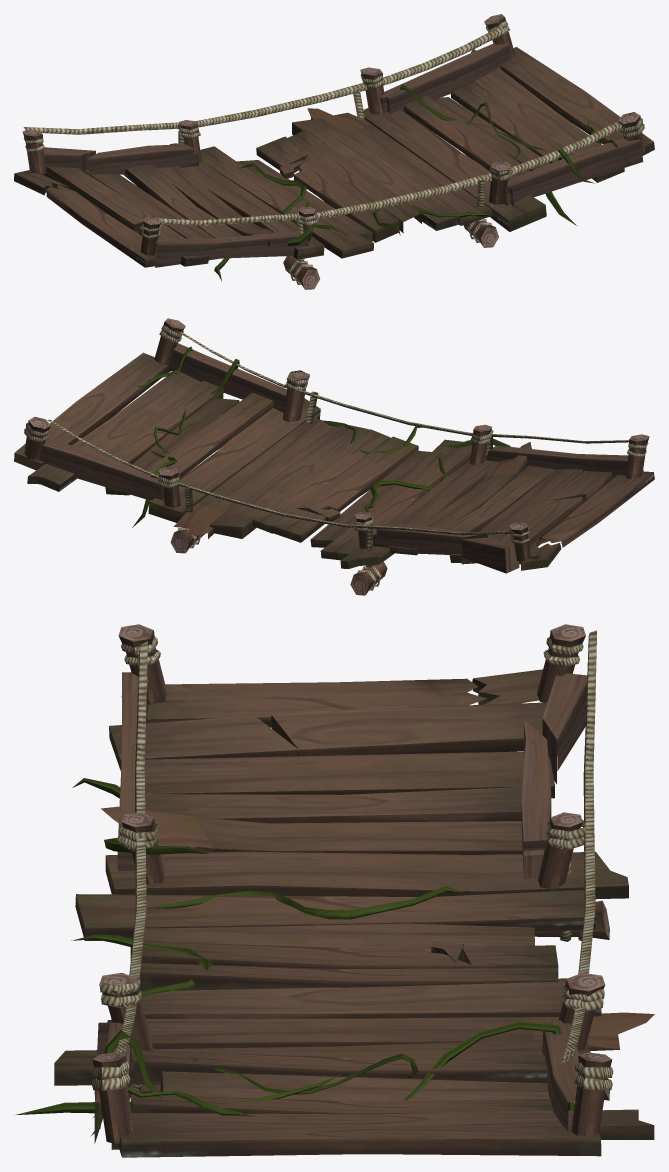
The model's file is MuQiao02.FBX.
3 renders of one model, top to bottom at view 1: azimuth 30°, elevation 25°; view 2: azimuth 150°, elevation 25°; view 3: azimuth 270°, elevation 25°, orthographic. The views are drawn at different scales.
Parts seen in each view (by area): view 1: Object30493, Object30492, Object30496, Object30495, Object30490, Object30494; view 2: Object30493, Object30492, Object30495, Object30496, Object30490, Object30494; view 3: Object30493, Object30496, Object30495, Object30492, Object30490, Object30494.
Boxes of the visible parts, x1,y1,x2,y2 form: Object30493: (14,47,654,267); Object30492: (43,43,643,267); Object30496: (23,21,644,284); Object30495: (22,14,644,289); Object30490: (214,84,636,281); Object30494: (244,108,371,238); Object30493: (14,352,654,570); Object30492: (38,343,643,573); Object30495: (24,318,649,595); Object30496: (24,325,648,590); Object30490: (132,346,510,527); Object30494: (174,442,531,536); Object30493: (54,669,654,1157); Object30496: (91,630,613,1093); Object30495: (92,624,612,1143); Object30492: (94,672,587,1143); Object30490: (14,778,574,1136); Object30494: (101,806,654,1050).
Bounding box in the file's own units: 415 × 245 × 75.71.
